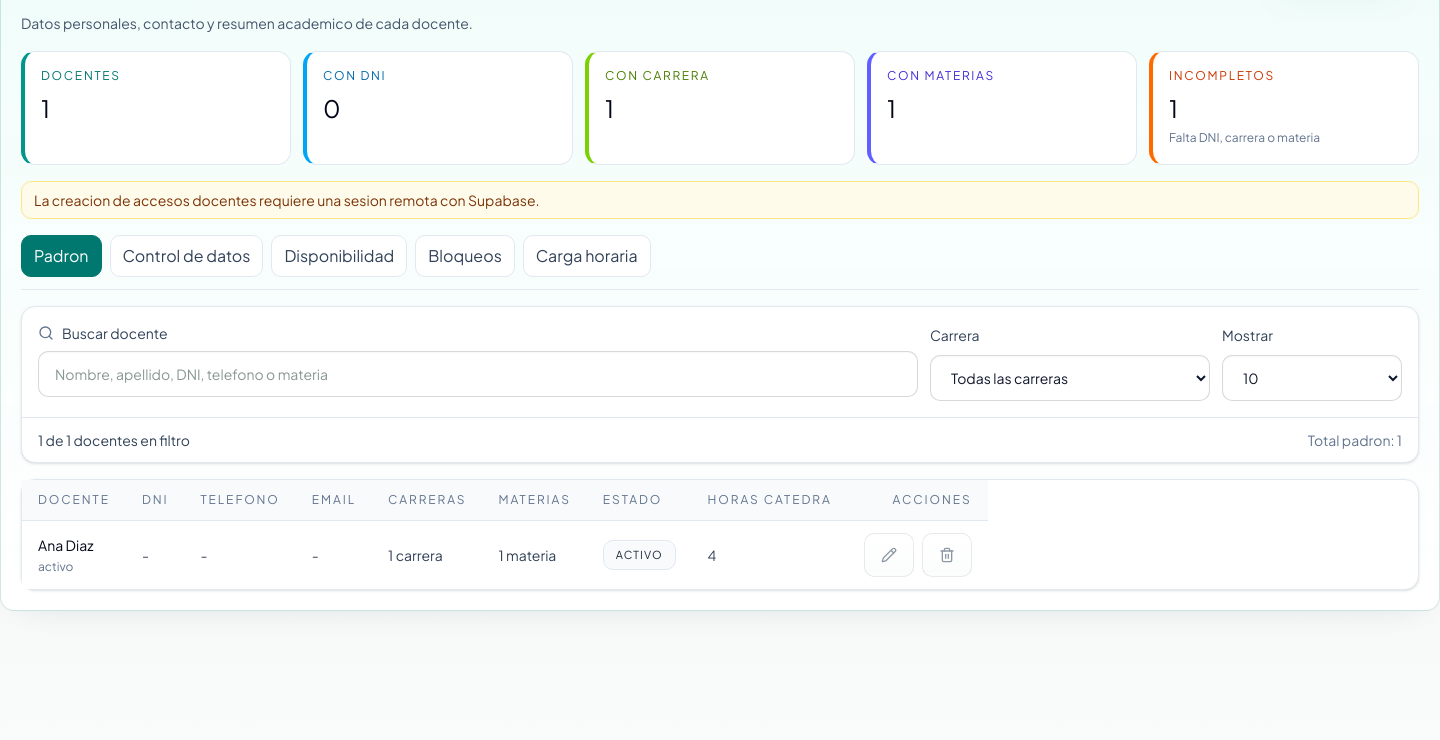
it: TeacherRosterSection fechas bloqueadas › diagnostica fuente estructurada incompleta y materias sin titular efectivo
Select "Profesorado de Ingles" in the dropdown labelled "Carrera" at [1070, 378], box [930,355,1210,401]
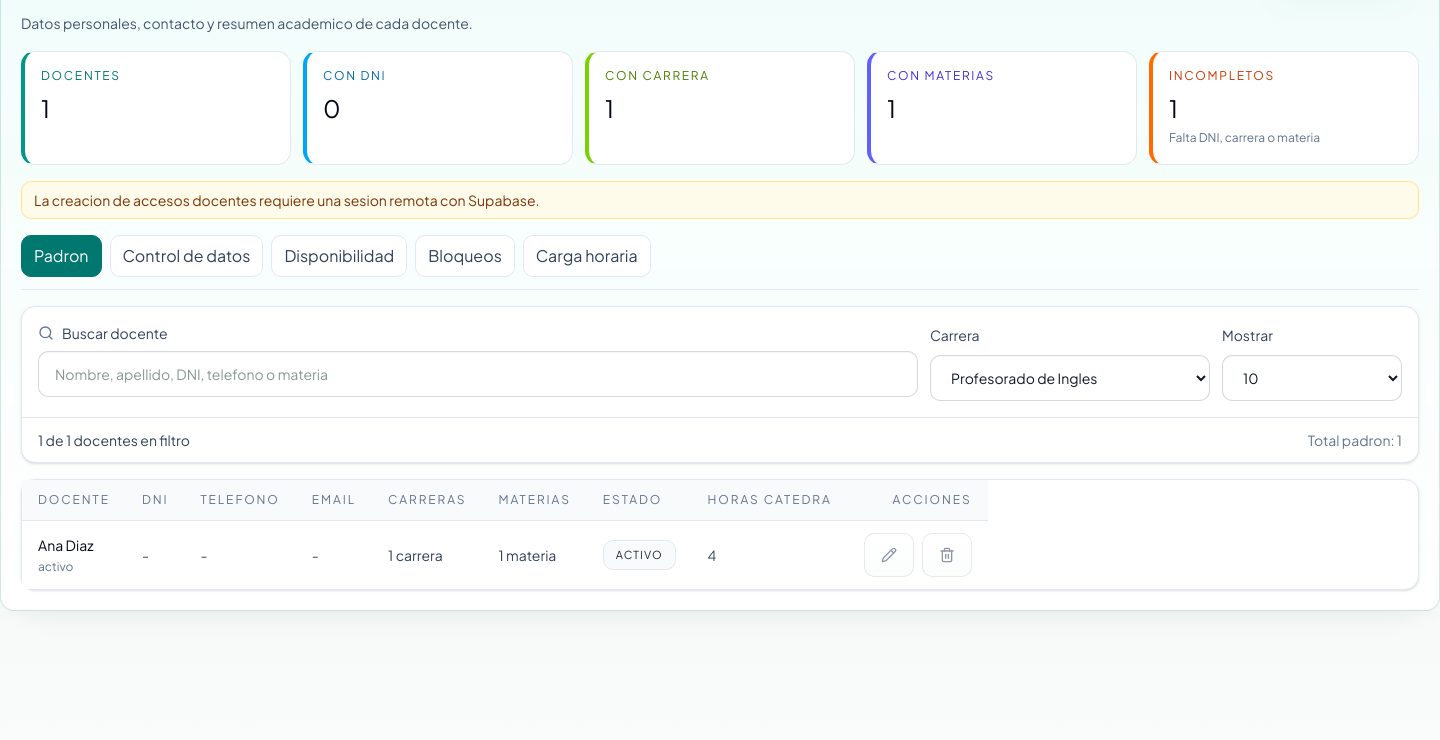
Click the button "Control de datos" at [186, 256], box [110,235,263,277]
(page scrolled)
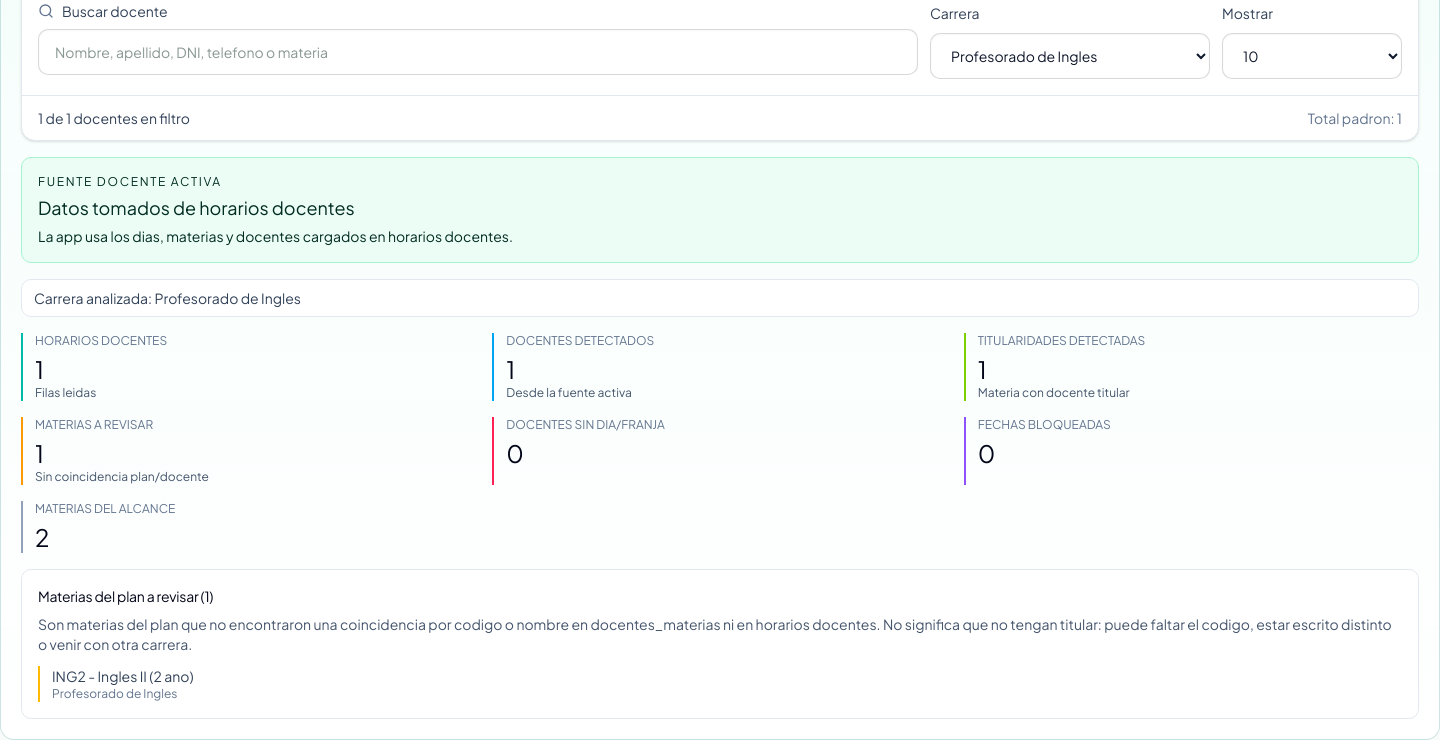
Now the text "Carrera analizada: Profesorado de Ingles" is shown, box [21,279,1419,317]
Now the text "Datos tomados de horarios docentes" is shown, box [38,196,355,219]
Now the text "ING2" is shown, box [52,667,86,685]
